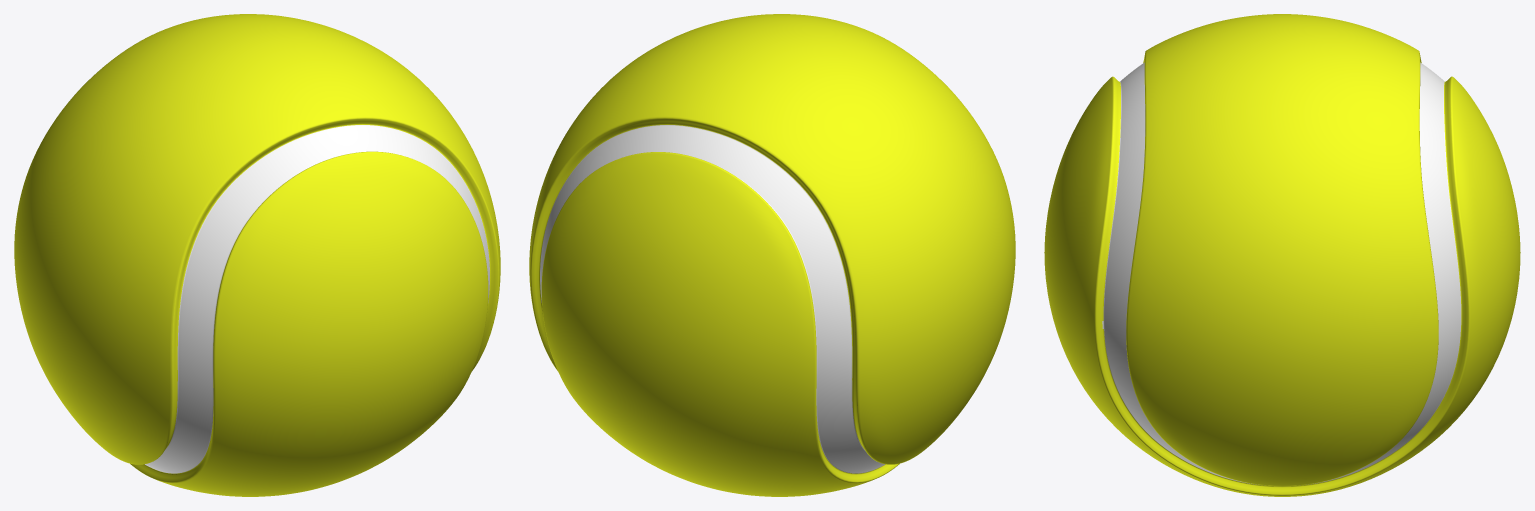
File: tennis_ball.glb
The picture shows the model from 3 angles, left to right: view 1: azimuth 30°, elevation 25°; view 2: azimuth 150°, elevation 25°; view 3: azimuth 270°, elevation 25°; orthographic projection.
Visible parts, largest first — view 1: pCube1 (×2); view 2: pCube1 (×2); view 3: pCube1 (×2).
Part boxes in pixels (bbox=[...]): pCube1 (×2): bbox=[14, 14, 500, 496]; pCube1 (×2): bbox=[529, 14, 1015, 496]; pCube1 (×2): bbox=[1044, 14, 1520, 496].
Size of the model in its own units: 2.1 by 2.12 by 2.1.
